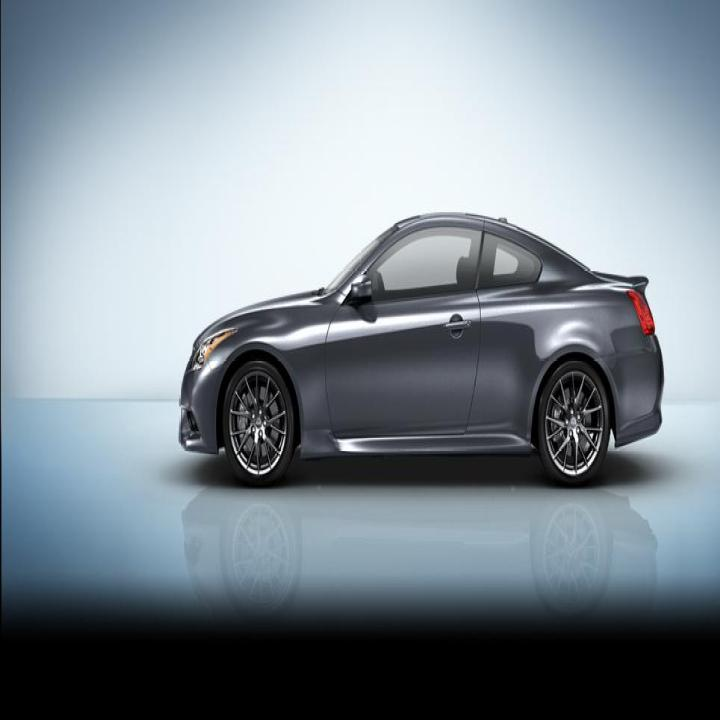car: (177, 209, 665, 488)
